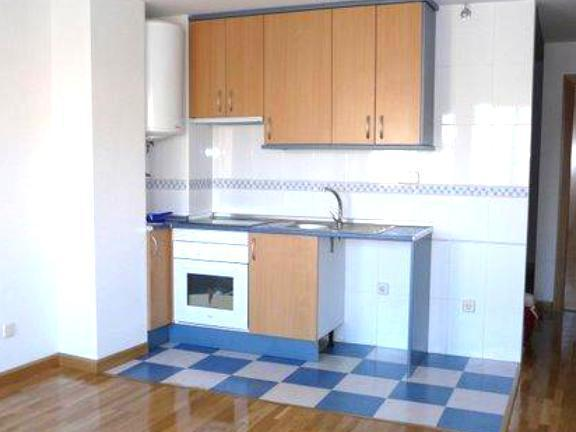Electrodomestico: (174, 224, 251, 330)
Lavaplatos: (287, 183, 396, 240)
Puerta: (569, 79, 576, 317)
